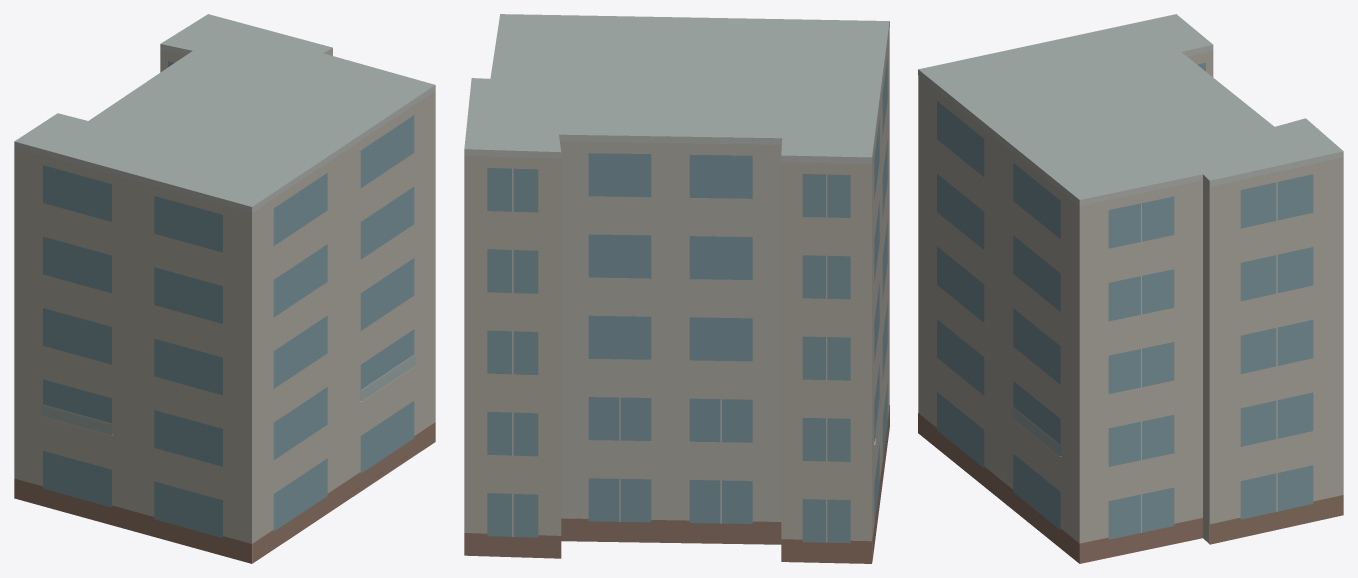
Rendered from survey-upis-32762863.glb.
3 renders of one model, left to right at view 1: azimuth 30°, elevation 25°; view 2: azimuth 150°, elevation 25°; view 3: azimuth 270°, elevation 25°, orthographic. The views are drawn at different scales.
Parts seen in each view (by area): view 1: survey-upis-32762863.tmp; view 2: survey-upis-32762863.tmp; view 3: survey-upis-32762863.tmp.
Part boxes in pixels (left/top/right/bottom): survey-upis-32762863.tmp: left=14, top=14, right=435, bottom=563; survey-upis-32762863.tmp: left=464, top=14, right=889, bottom=563; survey-upis-32762863.tmp: left=918, top=14, right=1343, bottom=563.
Bounding box in the file's own units: 16.35 × 14.9 × 15.8.
